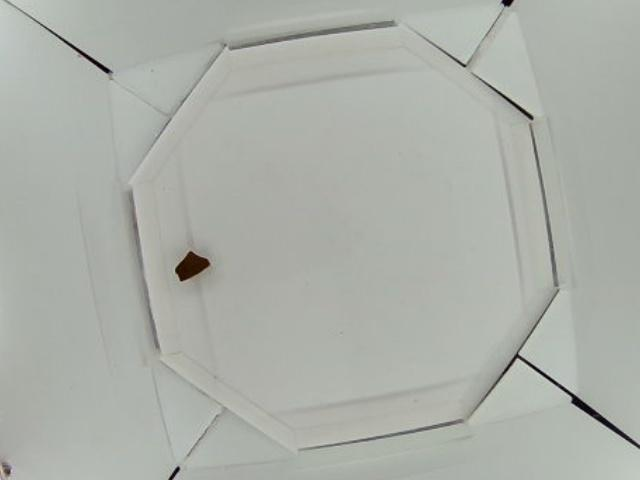China: (174, 250, 214, 284)
